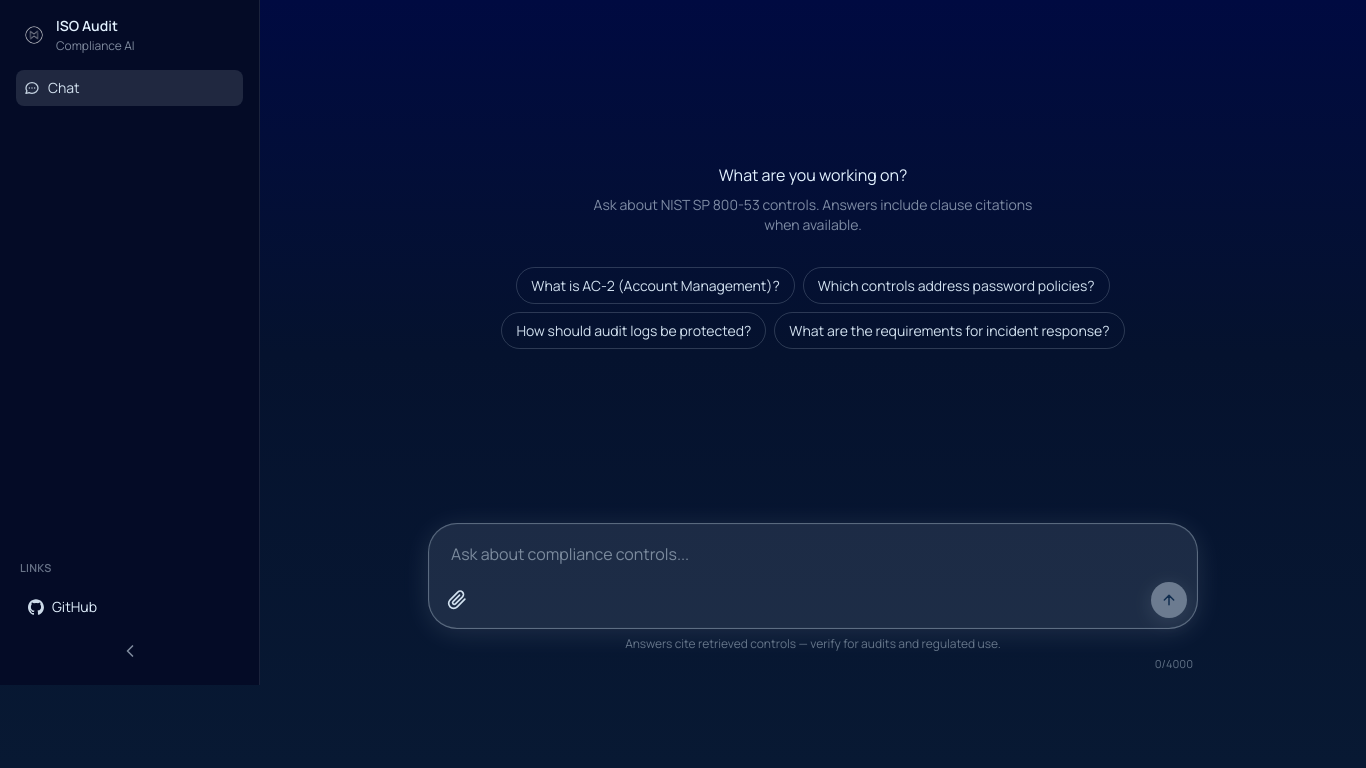
Test: Chat › displays error banner on API failure
In the text box with placeholder "Ask about compliance controls...": (813, 556) [439,534,1187,578], type "Failing question"
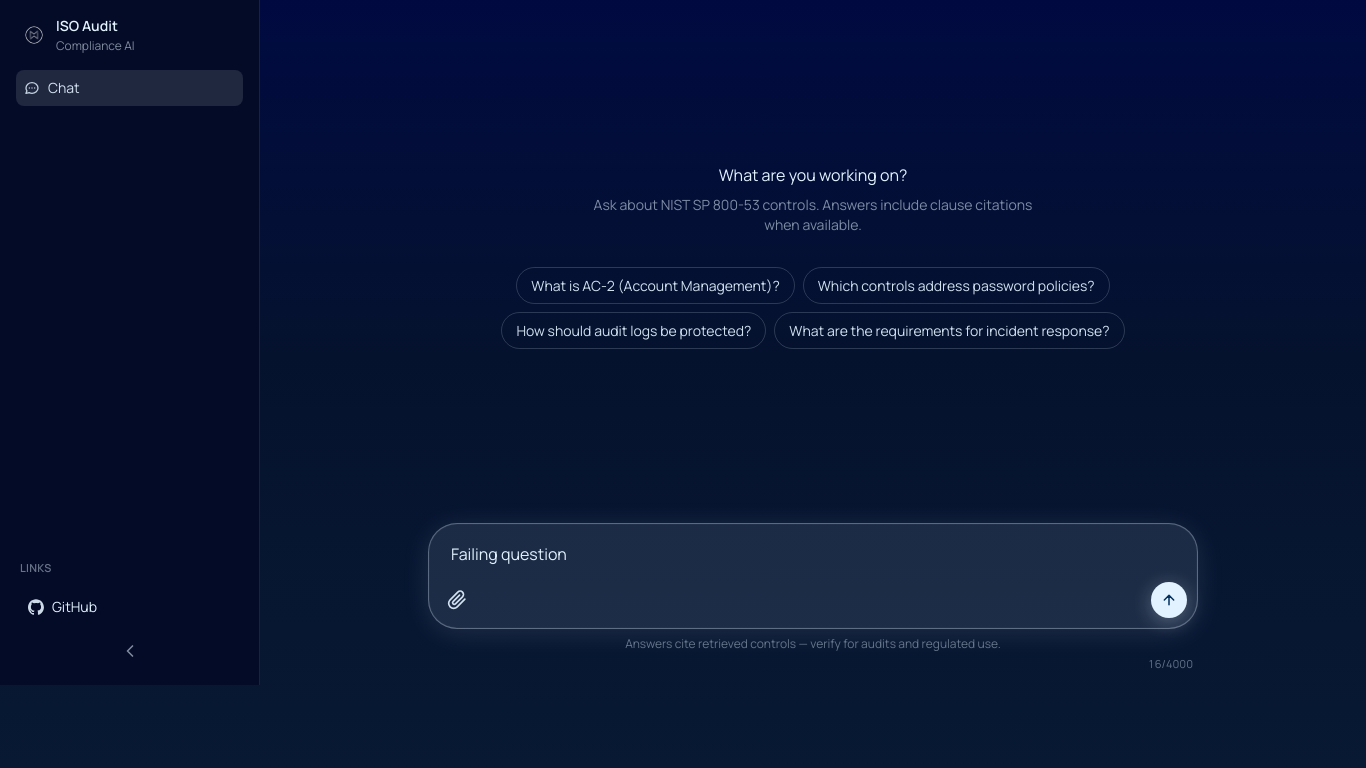
Click the button named "Send": (1169, 600) [1151,582,1187,618]
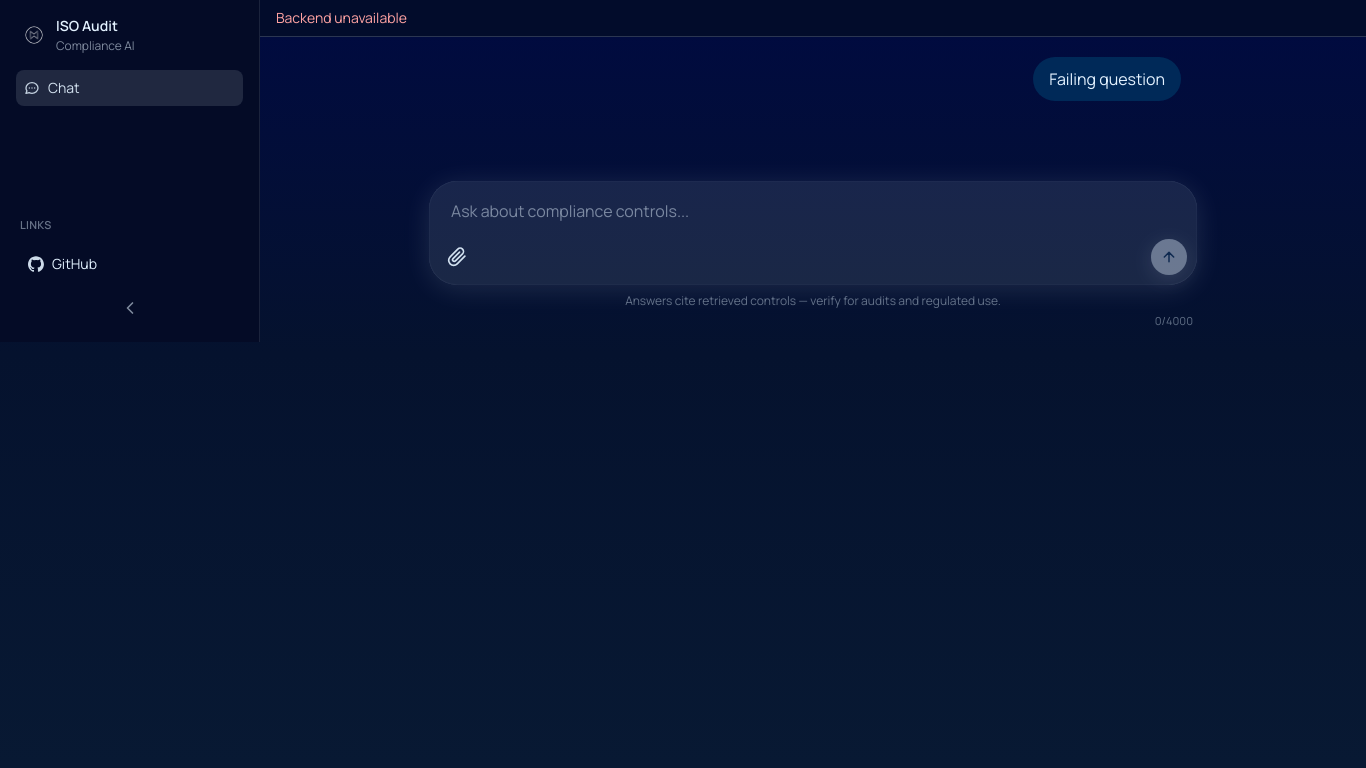
Now the text "Backend unavailable" is shown, box [260,0,1365,37]
